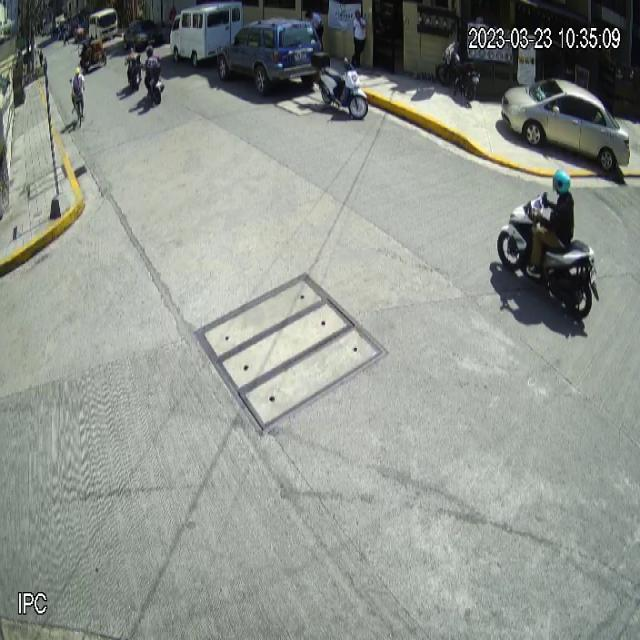Car: (501, 78, 632, 173), (217, 17, 323, 89)
Motorcycle: (496, 193, 601, 321), (311, 51, 369, 121)
Van: (170, 1, 242, 67)
